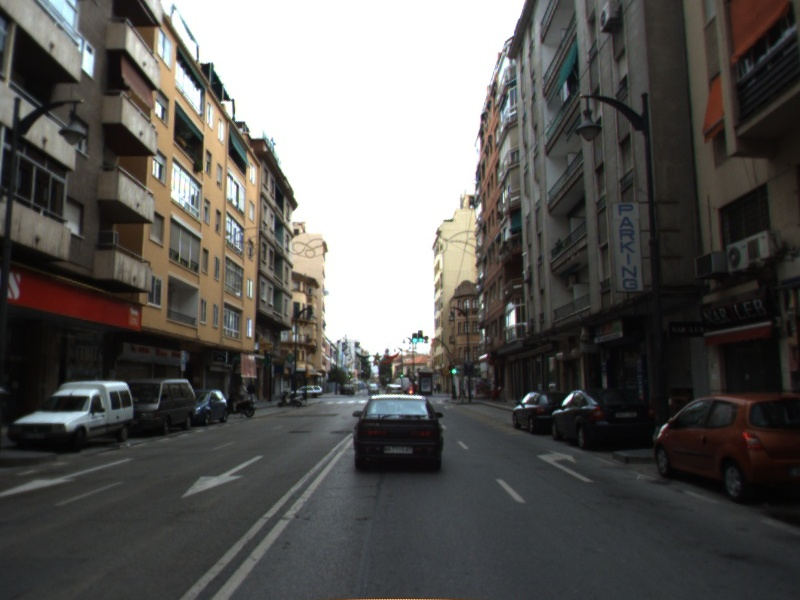RIGHT: (535, 448, 595, 484)
